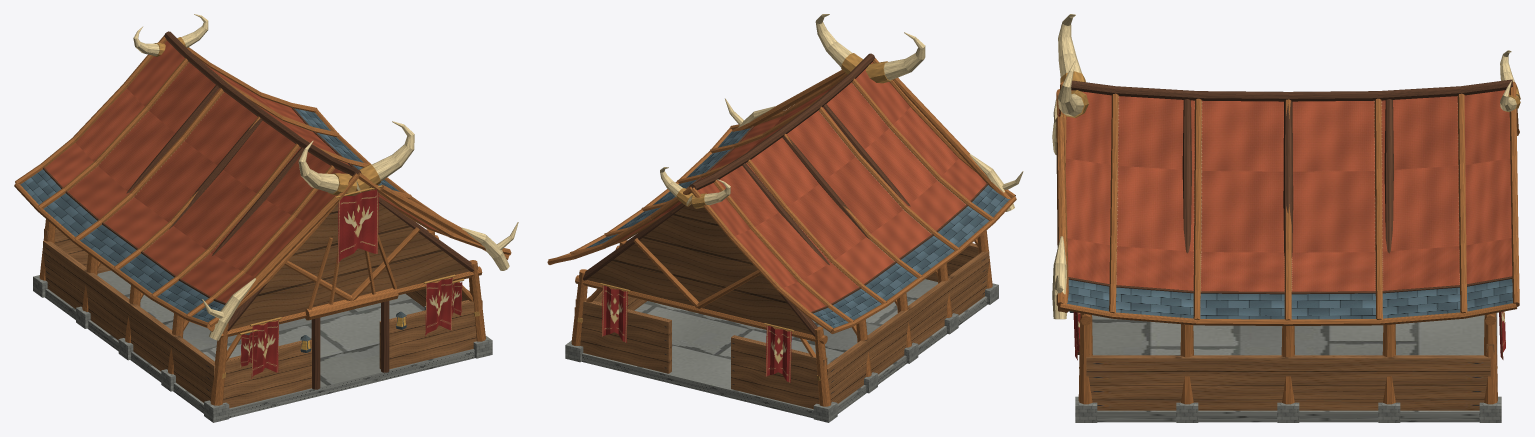
Rendered from hall.glb.
3 views of the same model, side by side, from view 1: azimuth 30°, elevation 25°; view 2: azimuth 150°, elevation 25°; view 3: azimuth 270°, elevation 25° (orthographic). The views are drawn at different scales.
Visible parts, largest first — view 1: hall_F4; view 2: hall_F4; view 3: hall_F4.
Part boxes in pixels (box(x1,y1,x2,y2)): hall_F4: box(14, 14, 518, 422); hall_F4: box(547, 14, 1023, 422); hall_F4: box(1052, 14, 1520, 422).
Bounding box in the file's own units: 19.24 × 15.03 × 20.86.
Materials: 1 (1 with a texture image).
